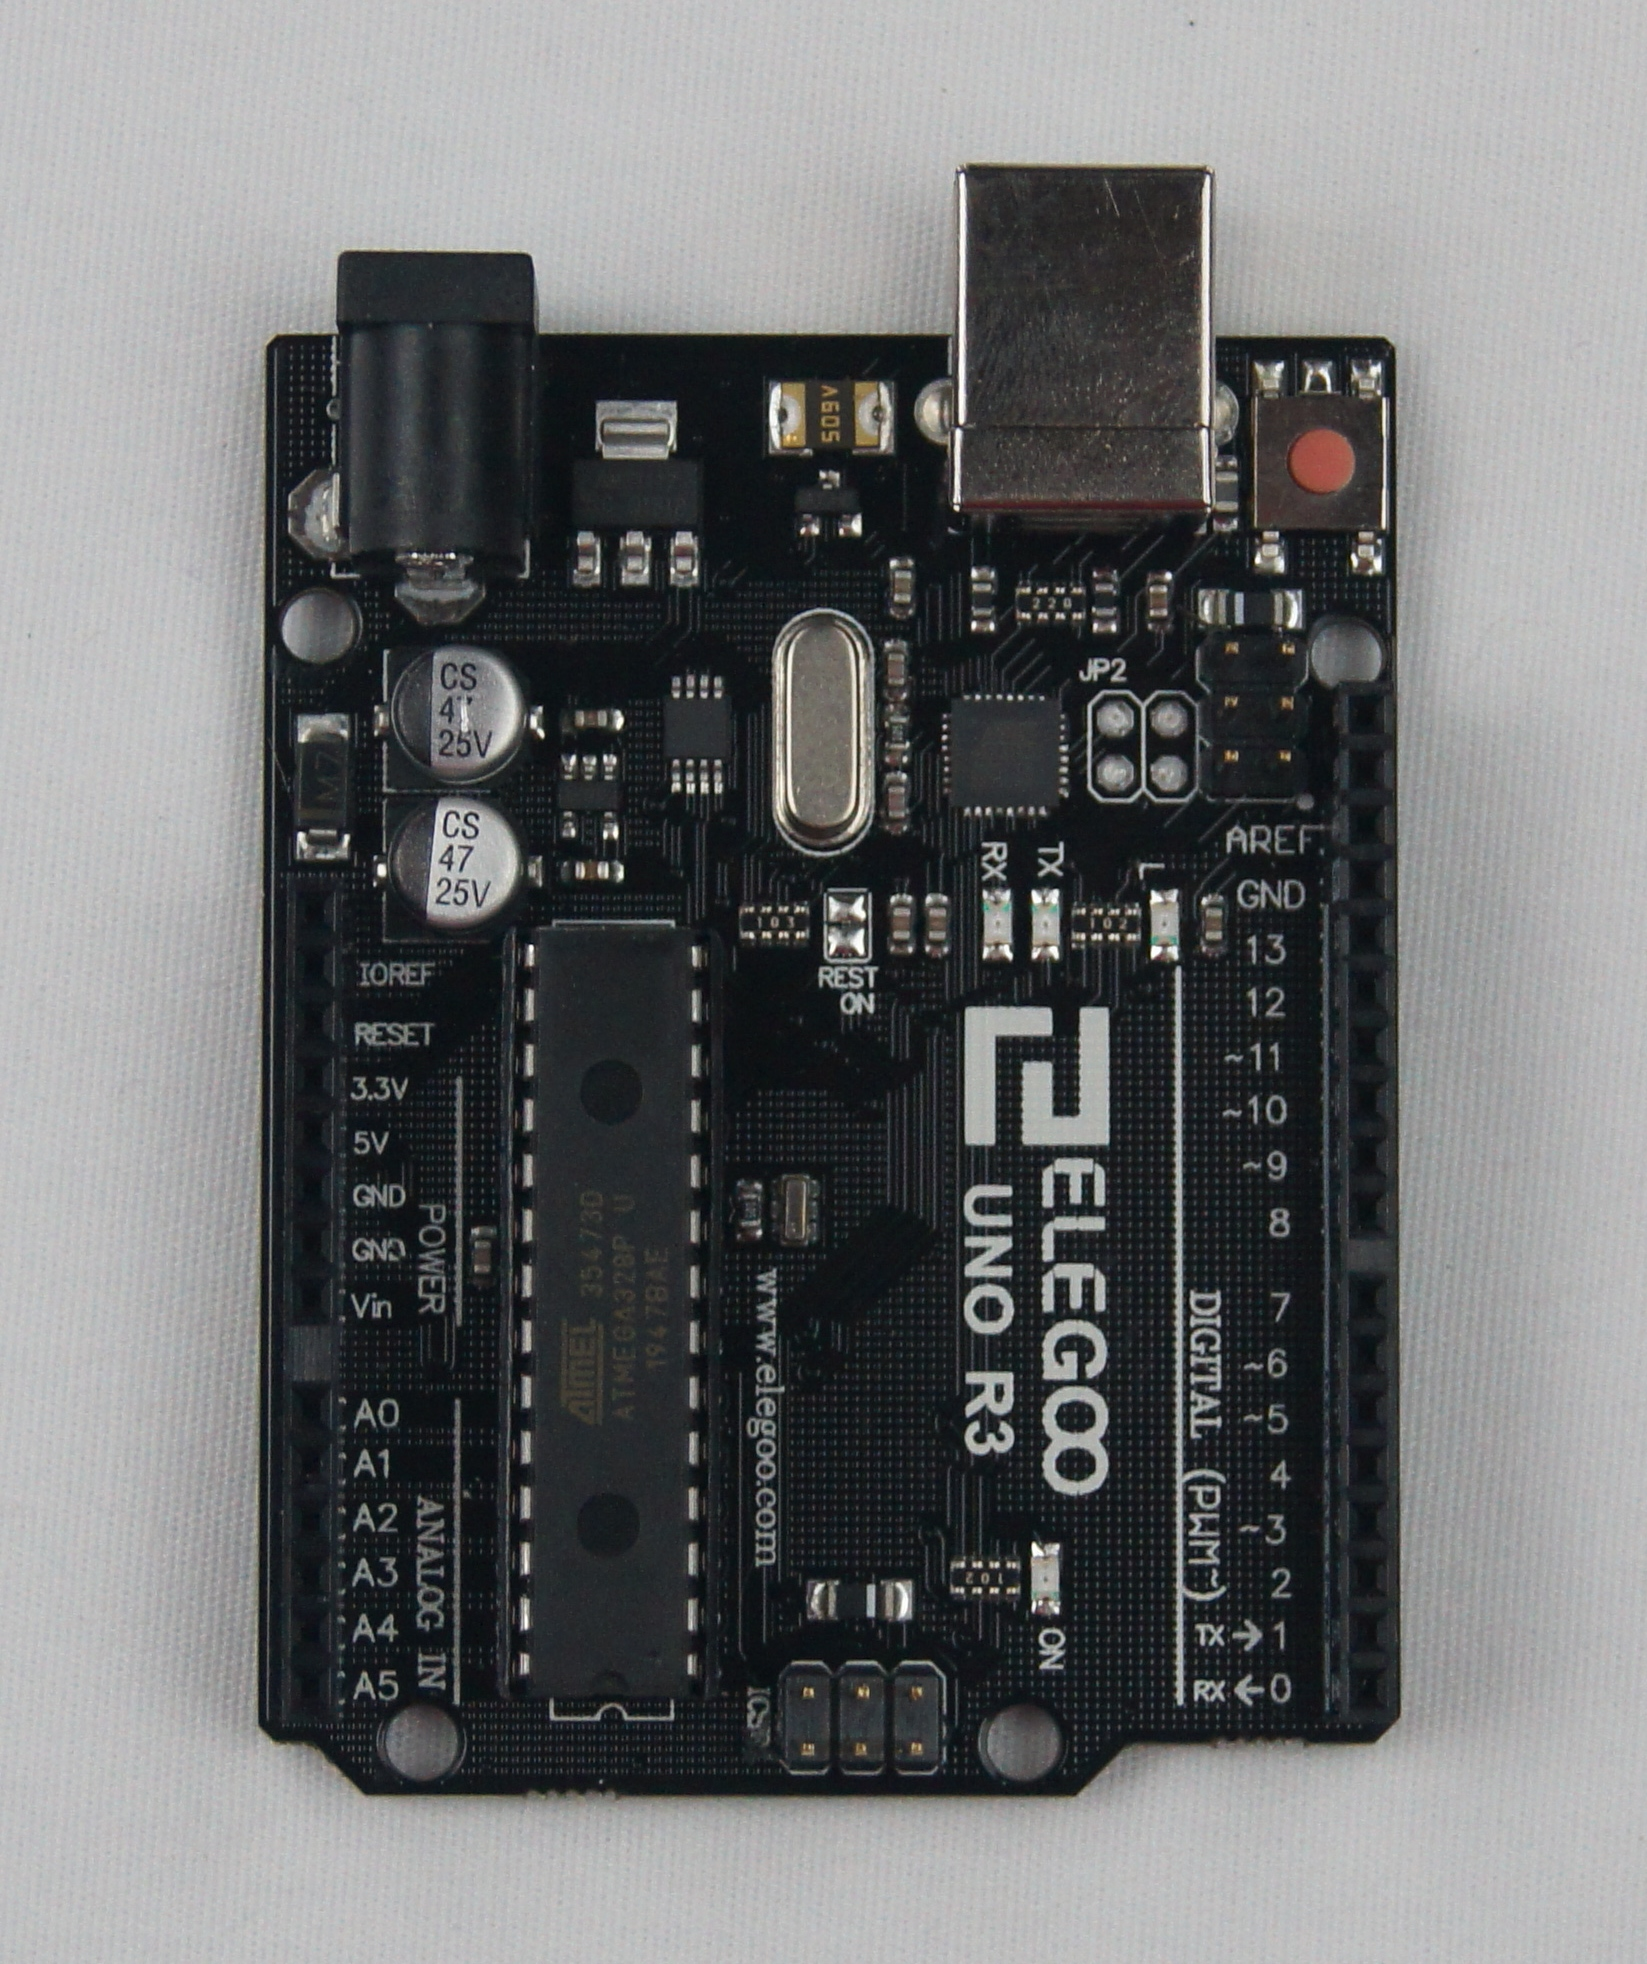kondensator: (369, 801, 523, 933), (381, 632, 516, 776), (765, 361, 904, 466), (562, 846, 632, 895), (457, 1216, 503, 1284), (551, 698, 627, 737), (1140, 572, 1181, 641), (881, 881, 917, 953), (1194, 894, 1232, 962), (923, 890, 953, 957), (887, 559, 915, 611), (884, 778, 912, 827), (882, 644, 912, 690)
